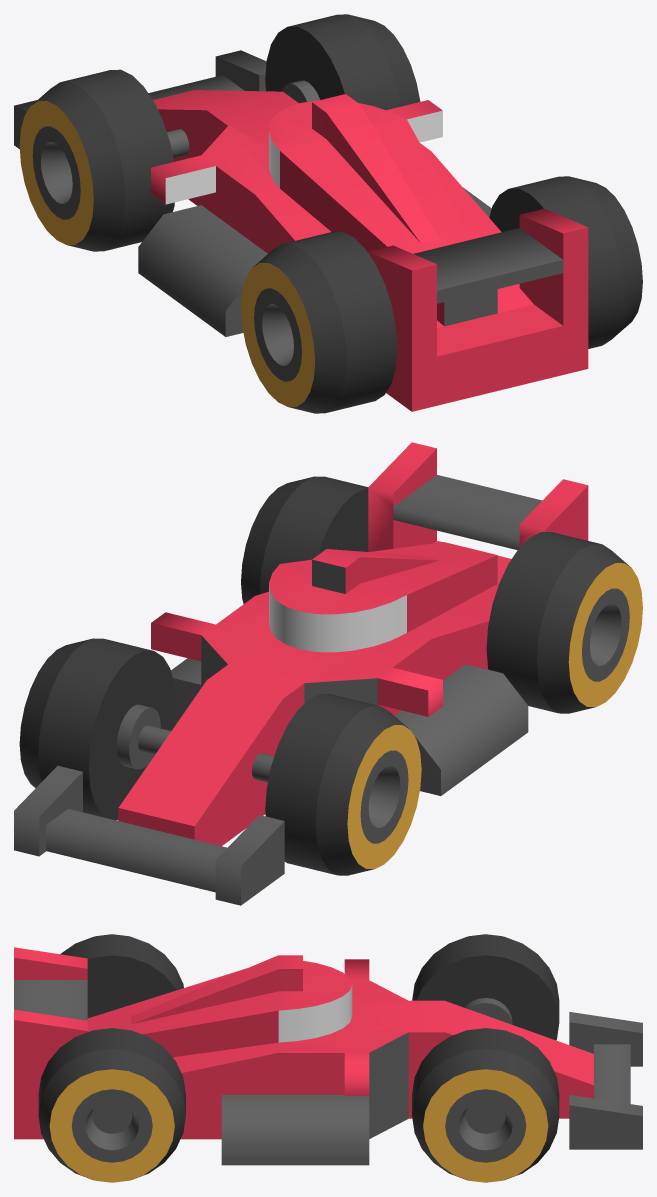
File: race-transformed.glb
The picture shows the model from 3 angles, top to bottom: view 1: azimuth 30°, elevation 25°; view 2: azimuth 150°, elevation 25°; view 3: azimuth 270°, elevation 25°; orthographic projection. The views are drawn at different scales.
Parts seen in each view (by area): view 1: body, wheel_backLeft, wheel_frontLeft, wheel_backRight, wheel_frontRight; view 2: body, wheel_frontLeft, wheel_backLeft, wheel_frontRight, wheel_backRight; view 3: body, wheel_backRight, wheel_frontRight, wheel_frontLeft, wheel_backLeft.
Part boxes in pixels (box(x1,y1,x2,y2)): body: box(14, 50, 588, 411); wheel_backLeft: box(241, 231, 397, 413); wheel_frontLeft: box(19, 69, 174, 251); wheel_backRight: box(489, 176, 642, 348); wheel_frontRight: box(265, 14, 420, 110); body: box(14, 442, 588, 905); wheel_frontLeft: box(265, 694, 421, 875); wheel_backLeft: box(486, 532, 642, 713); wheel_frontRight: box(19, 638, 175, 820); wheel_backRight: box(241, 476, 368, 603); body: box(14, 947, 642, 1165); wheel_backRight: box(38, 1028, 185, 1182); wheel_frontRight: box(412, 1028, 559, 1182); wheel_frontLeft: box(412, 934, 559, 1040); wheel_backLeft: box(60, 934, 183, 1018).
Size of the model in its own units: 1.3 by 0.7325 by 2.56.
